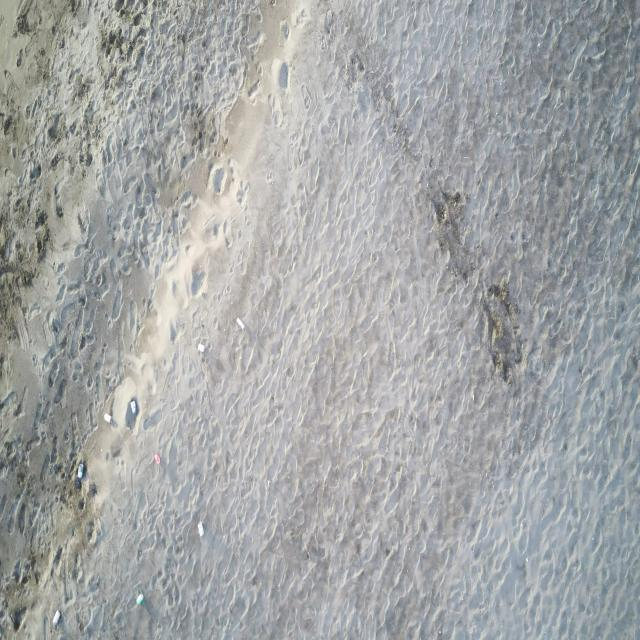Garbage: (124, 397, 138, 427), (75, 462, 84, 488), (51, 609, 60, 626), (128, 400, 136, 415), (76, 462, 83, 479), (152, 452, 160, 464), (88, 483, 96, 495), (236, 316, 243, 329), (196, 522, 203, 535), (104, 412, 111, 423), (136, 593, 143, 604), (74, 476, 80, 488), (196, 343, 203, 352)
